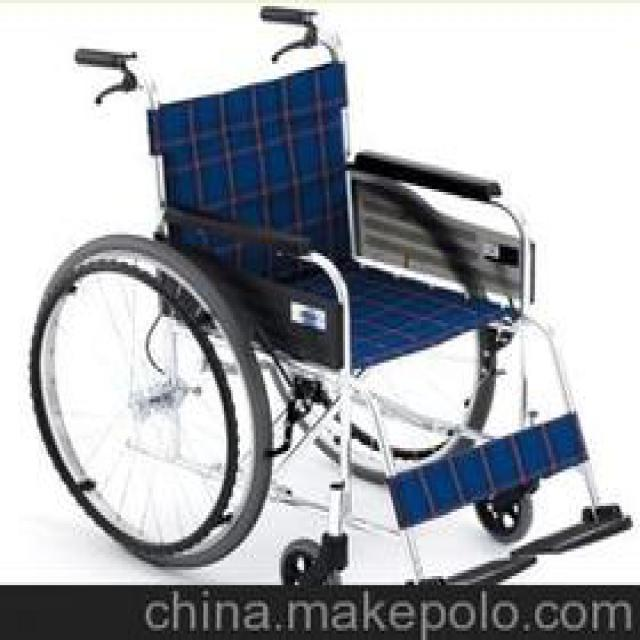wheelchair: (25, 0, 638, 585)
